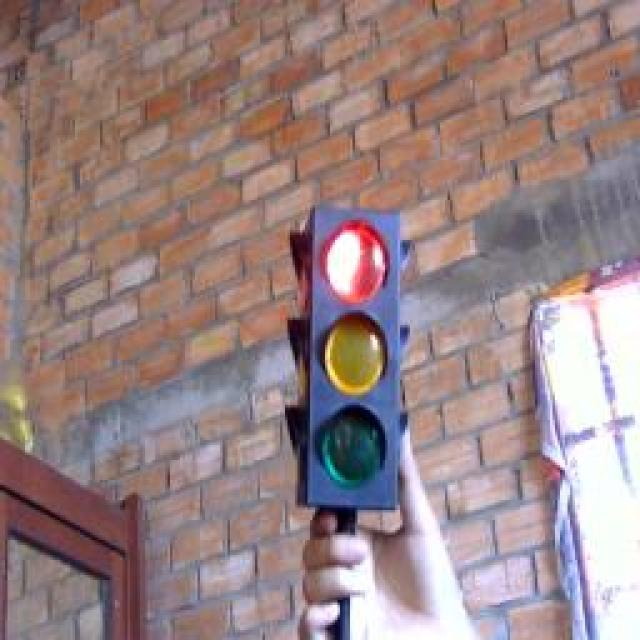-: (320, 211, 395, 311)
